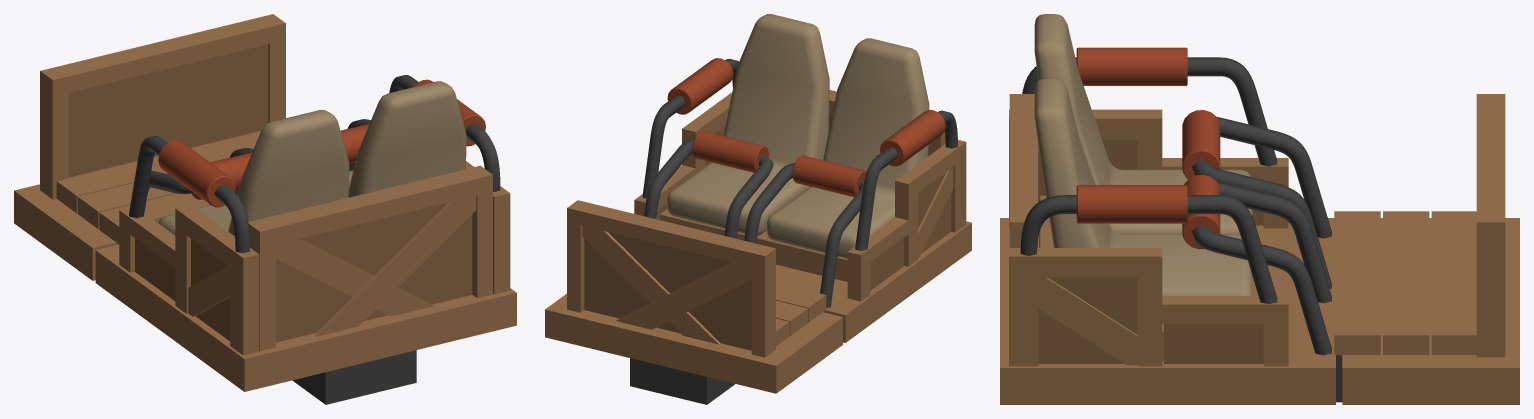
Rendered from StylizedCart.glb.
3 renders of one model, left to right at view 1: azimuth 30°, elevation 25°; view 2: azimuth 150°, elevation 25°; view 3: azimuth 270°, elevation 25°, orthographic. The views are drawn at different scales.
Parts seen in each view (by area): view 1: StylizedCart_Merged; view 2: StylizedCart_Merged; view 3: StylizedCart_Merged.
Boxes of the visible parts, x1,y1,x2,y2 form: StylizedCart_Merged: (14,14,516,404); StylizedCart_Merged: (545,14,971,404); StylizedCart_Merged: (1000,14,1519,404).
Bounding box in the file's own units: 1.54 × 1.48 × 2.2.
Materials: 1 (1 with a texture image).
